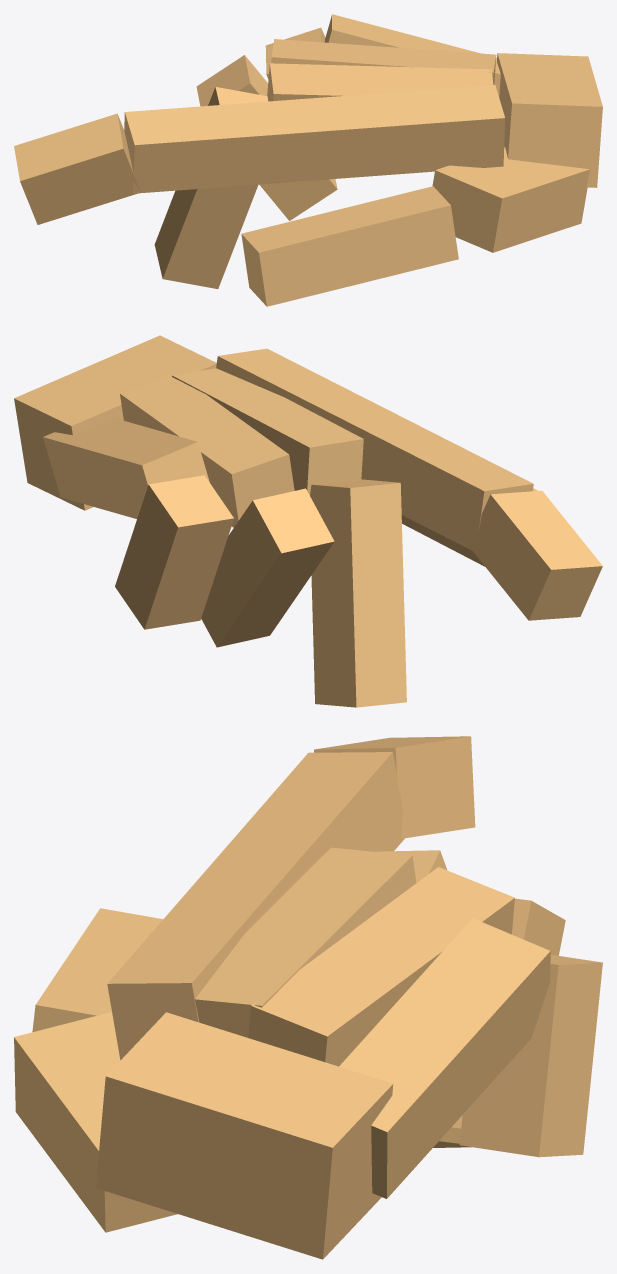
The model's file is scene_xexXxLCO1D.glb.
The picture shows the model from 3 angles, top to bottom: view 1: azimuth 30°, elevation 25°; view 2: azimuth 150°, elevation 25°; view 3: azimuth 270°, elevation 25°; orthographic projection. The views are drawn at different scales.
Parts seen in each view (by area): view 1: group1398897958; view 2: group1398897958; view 3: group1398897958.
Part boxes in pixels (x1,y1,x2,y2): group1398897958: (14, 14, 602, 306); group1398897958: (14, 335, 602, 707); group1398897958: (14, 736, 602, 1259).
Size of the model in its own units: 0.3375 by 0.1254 by 0.2019.
